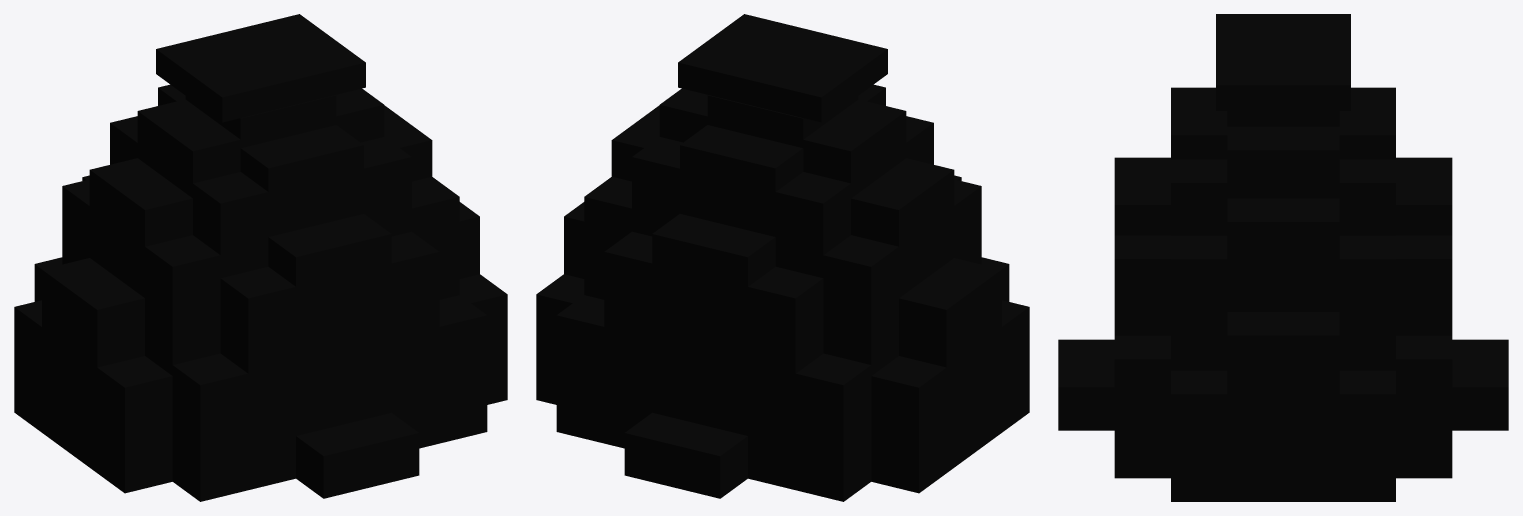
File: BasaltRoundBoulder.obj
The picture shows the model from 3 angles, left to right: view 1: azimuth 30°, elevation 25°; view 2: azimuth 150°, elevation 25°; view 3: azimuth 270°, elevation 25°; orthographic projection.
Parts seen in each view (by area): view 1: BasaltRoundBoulder; view 2: BasaltRoundBoulder; view 3: BasaltRoundBoulder.
Boxes of the visible parts, x1,y1,x2,y2 form: BasaltRoundBoulder: (14, 14, 507, 501); BasaltRoundBoulder: (536, 14, 1029, 501); BasaltRoundBoulder: (1058, 14, 1508, 501).
Bounding box in the file's own units: 8 × 7 × 8.
